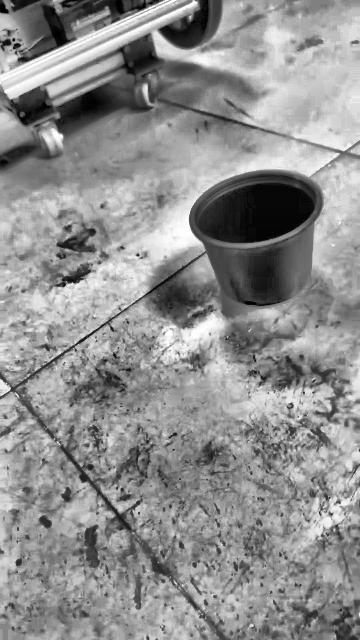pot: (189, 169, 323, 304)
